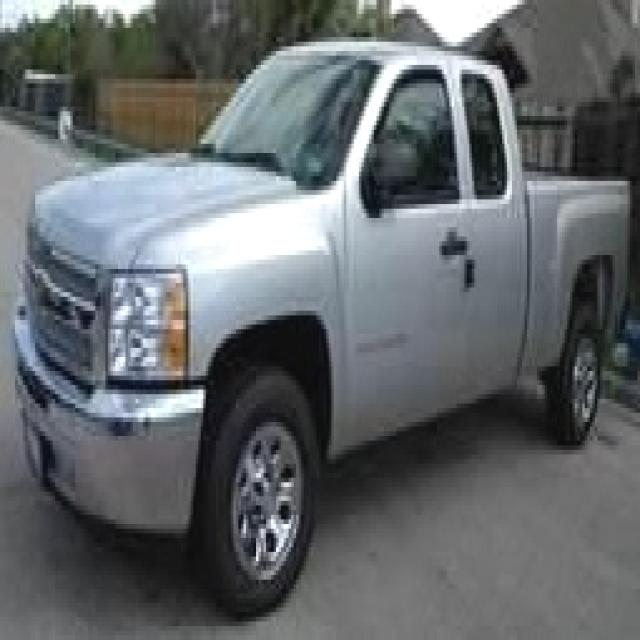CMT: (25, 28, 640, 617)
